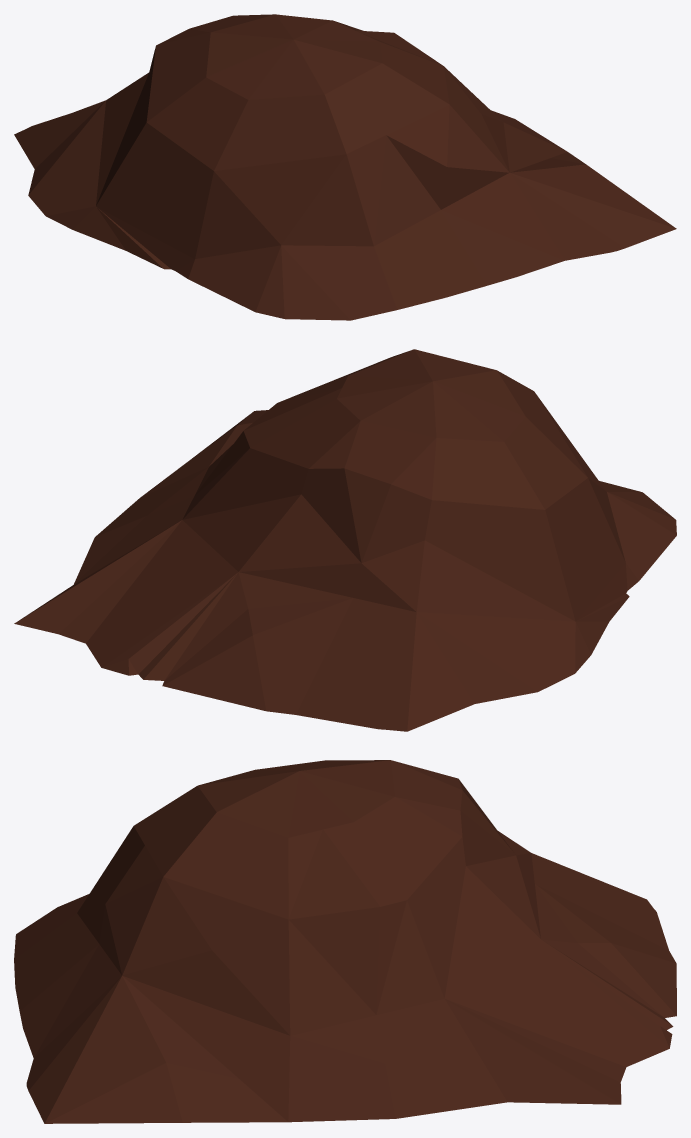
Rendered from Rock_2_Tiled_Cup.fbx.
3 renders of one model, top to bottom at view 1: azimuth 30°, elevation 25°; view 2: azimuth 150°, elevation 25°; view 3: azimuth 270°, elevation 25°, orthographic. The views are drawn at different scales.
Visible parts, largest first — view 1: Rock_2_Cup; view 2: Rock_2_Cup; view 3: Rock_2_Cup.
Boxes of the visible parts, x1,y1,x2,y2 form: Rock_2_Cup: (14, 14, 676, 320); Rock_2_Cup: (14, 349, 676, 731); Rock_2_Cup: (14, 760, 676, 1123).
Size of the model in its own units: 1334 by 483 by 1449.
